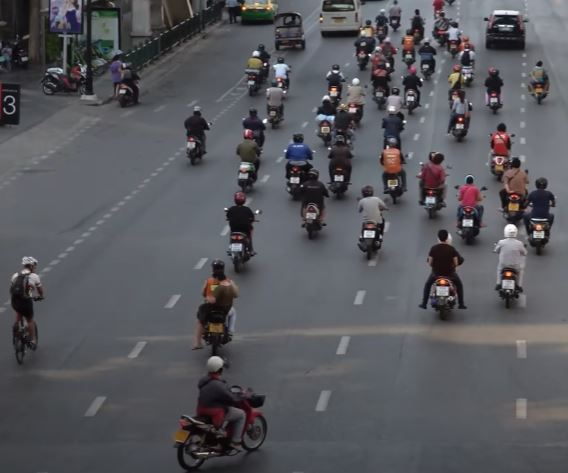Bus: (318, 1, 363, 37)
Car: (485, 9, 527, 51), (240, 1, 278, 25)
Motorcycle: (173, 356, 271, 472), (420, 229, 467, 322), (193, 258, 237, 357), (9, 255, 44, 362), (491, 220, 527, 309), (223, 189, 262, 269), (296, 166, 331, 241), (355, 184, 388, 260), (526, 177, 556, 256), (497, 155, 528, 227), (456, 173, 486, 243), (380, 137, 410, 202), (419, 151, 447, 218), (283, 132, 313, 194), (181, 104, 211, 165), (109, 52, 141, 109), (235, 127, 261, 190), (328, 135, 353, 198), (488, 123, 515, 180), (448, 88, 473, 139), (242, 106, 268, 154), (381, 106, 405, 155), (345, 77, 368, 125), (314, 94, 335, 143), (264, 78, 284, 128), (529, 58, 551, 103), (386, 86, 408, 130), (485, 66, 505, 114), (324, 63, 347, 104), (335, 104, 354, 150), (370, 60, 388, 108), (403, 67, 423, 110), (244, 49, 263, 94), (418, 36, 437, 80), (457, 44, 476, 83), (270, 55, 290, 92), (400, 28, 418, 67), (446, 64, 463, 105), (352, 30, 370, 67), (433, 11, 449, 46), (411, 7, 426, 41), (446, 21, 461, 55), (374, 8, 388, 41), (388, 1, 402, 32)
TukTuk: (272, 11, 305, 51)
